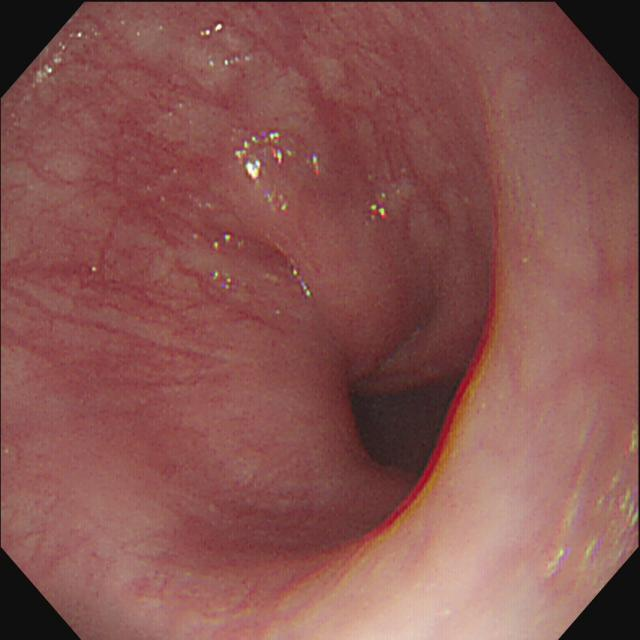A: (116, 118, 206, 240)
E: (333, 372, 461, 490)
J: (34, 43, 67, 89)
U: (235, 131, 284, 180)
